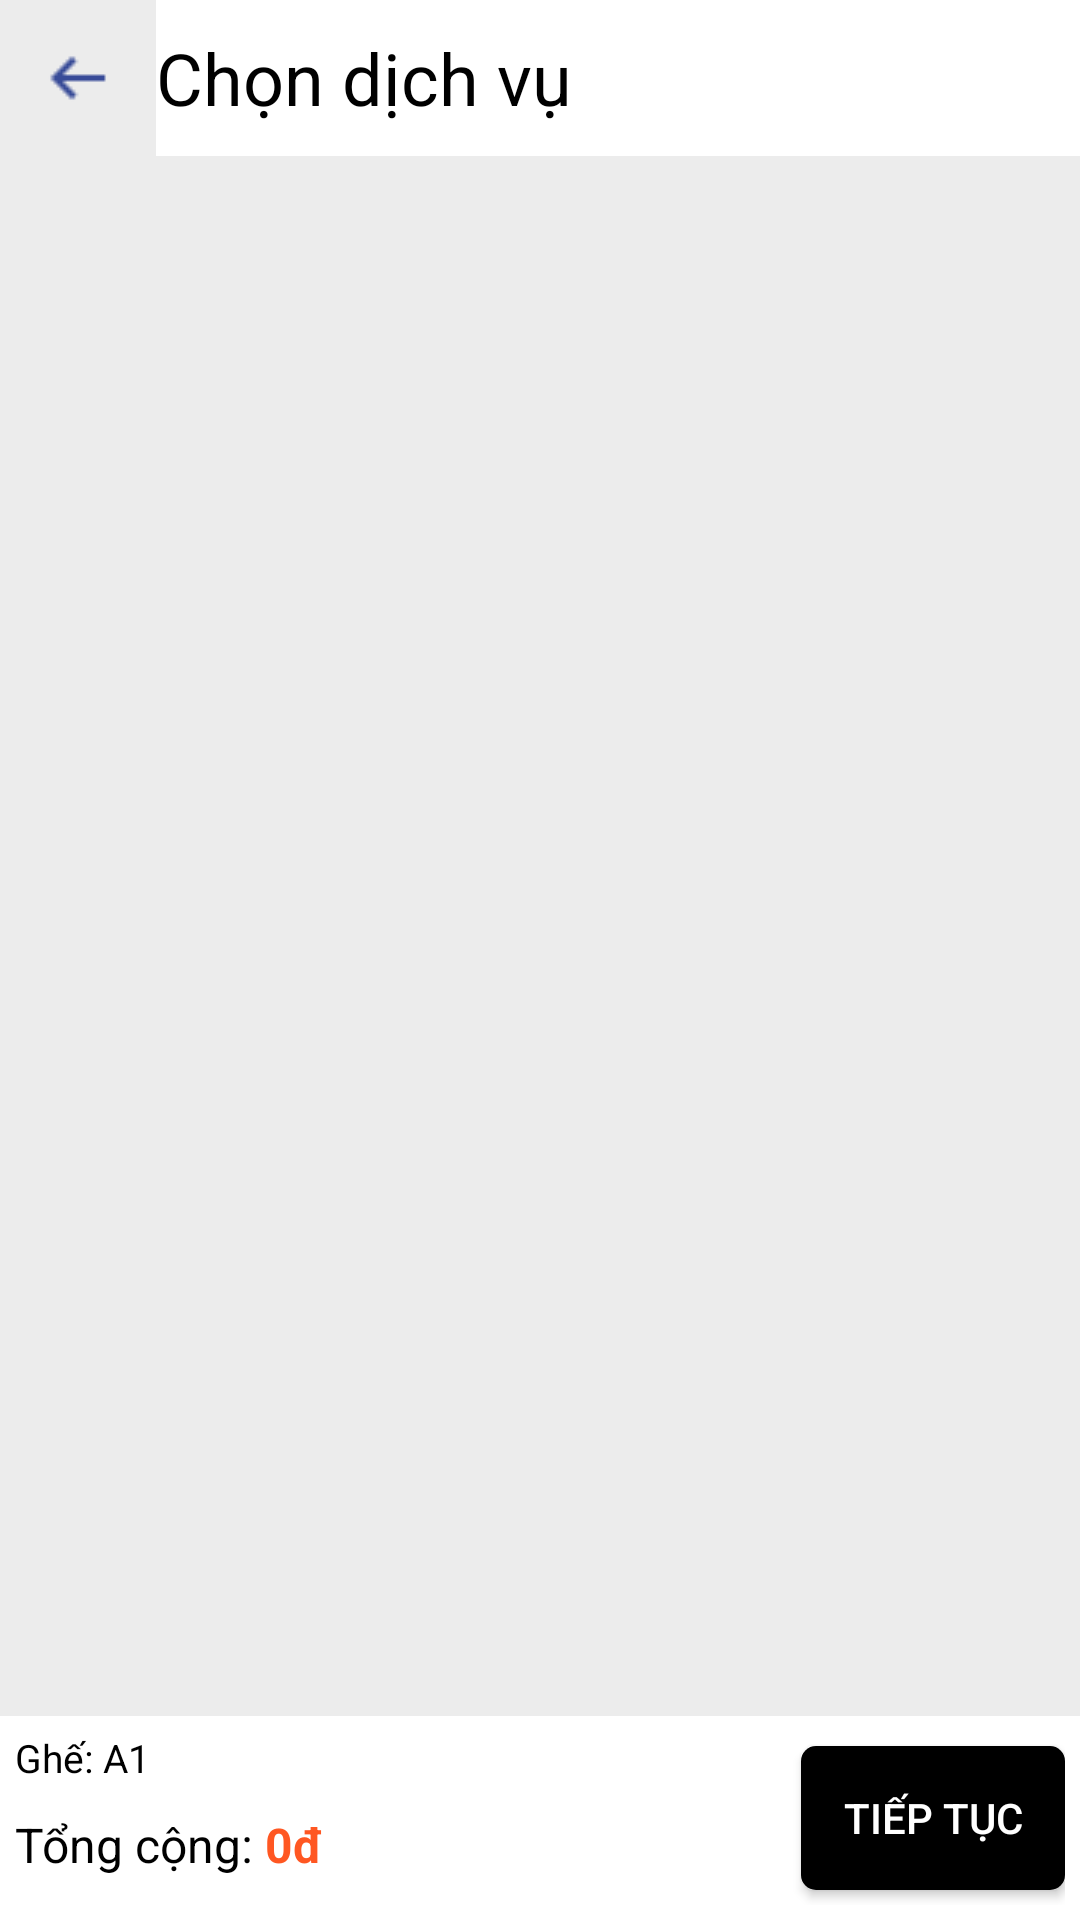

Named icons in this screenshot (1080w x 1920h) and their bounding boxes, (x1, y1, x2, y2):
back: (50, 56, 106, 100)
